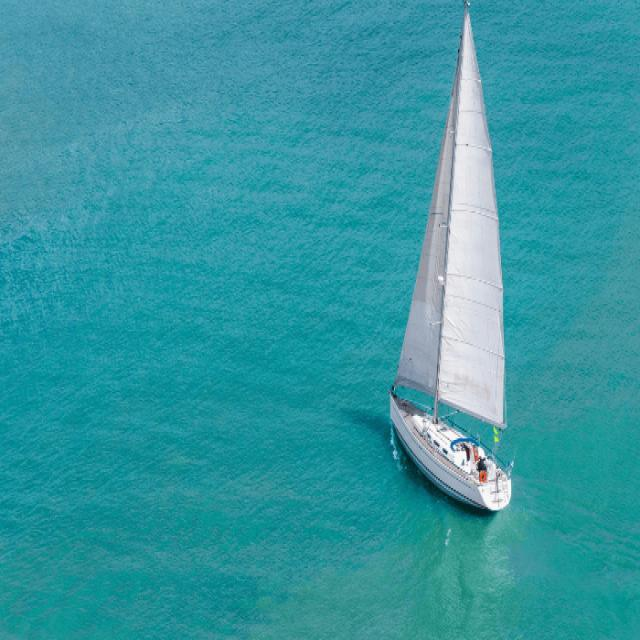boat: (381, 3, 526, 523)
